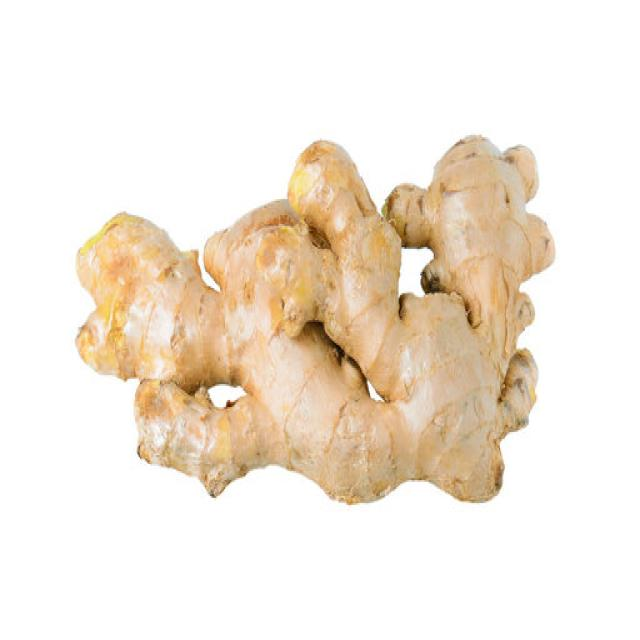Ginger: (74, 131, 555, 505)
